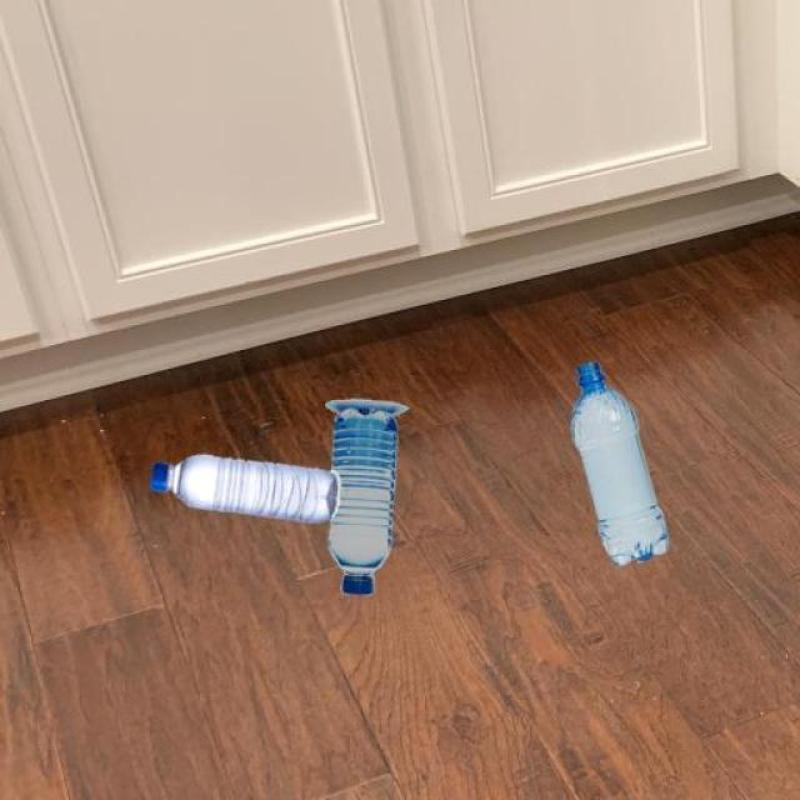botella: (570, 364, 672, 564), (147, 452, 338, 522), (326, 405, 394, 596)
